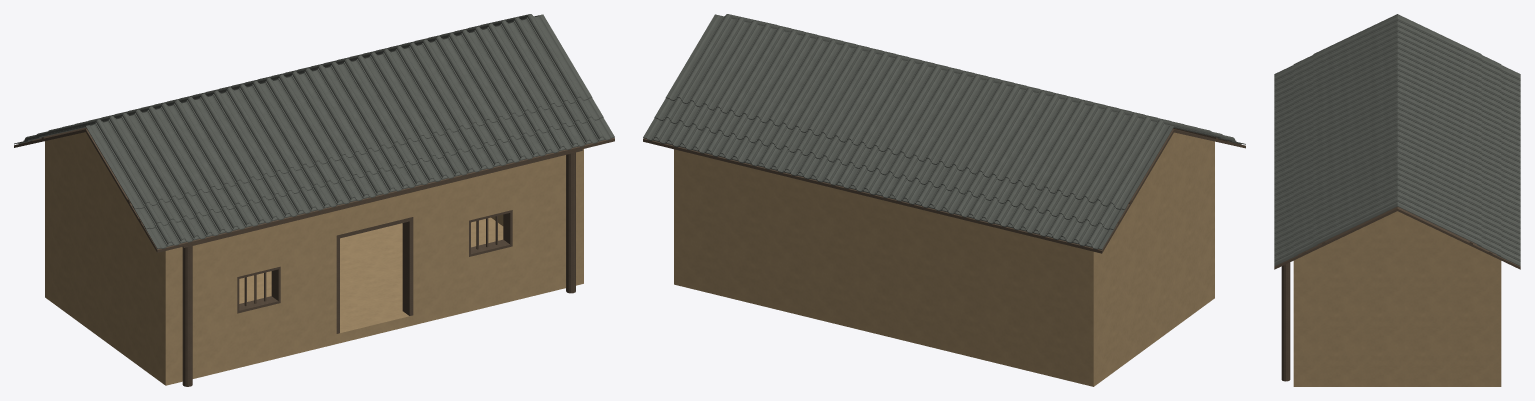
3 renders of one model, left to right at view 1: azimuth 30°, elevation 25°; view 2: azimuth 150°, elevation 25°; view 3: azimuth 270°, elevation 25°, orthographic. The views are drawn at different scales.
Visible parts, largest first — view 1: H96__LY_P01_earth, H96__LY_P01_tile, H96__LY_P01_timber; view 2: H96__LY_P01_earth, H96__LY_P01_tile, H96__LY_P01_timber; view 3: H96__LY_P01_tile, H96__LY_P01_earth, H96__LY_P01_timber.
Boxes of the visible parts, left/top/right/bottom form: H96__LY_P01_earth: left=45, top=132, right=583, bottom=385; H96__LY_P01_tile: left=14, top=14, right=614, bottom=249; H96__LY_P01_timber: left=14, top=127, right=614, bottom=386; H96__LY_P01_earth: left=674, top=132, right=1214, bottom=386; H96__LY_P01_tile: left=643, top=14, right=1245, bottom=249; H96__LY_P01_timber: left=643, top=128, right=1245, bottom=253; H96__LY_P01_tile: left=1274, top=14, right=1520, bottom=266; H96__LY_P01_earth: left=1293, top=211, right=1501, bottom=386; H96__LY_P01_timber: left=1274, top=206, right=1520, bottom=381.
Size of the model in its own units: 10.5 by 4.91 by 5.7.
3 materials, 3 textured.
